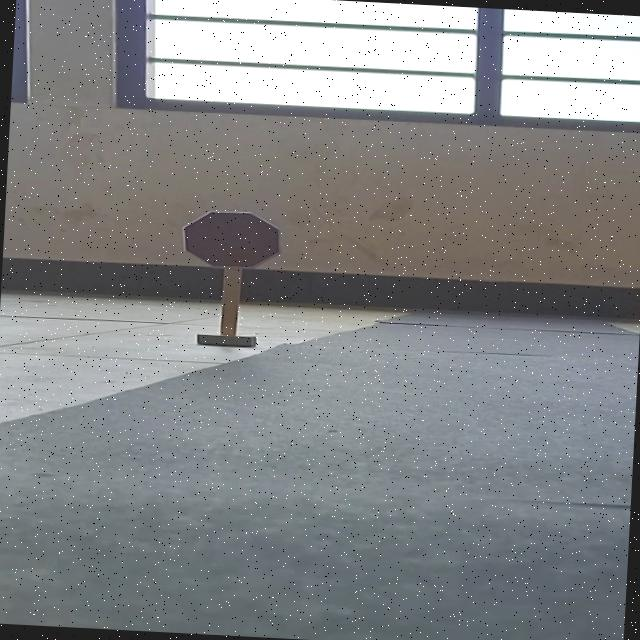Stop: (180, 208, 284, 272)
